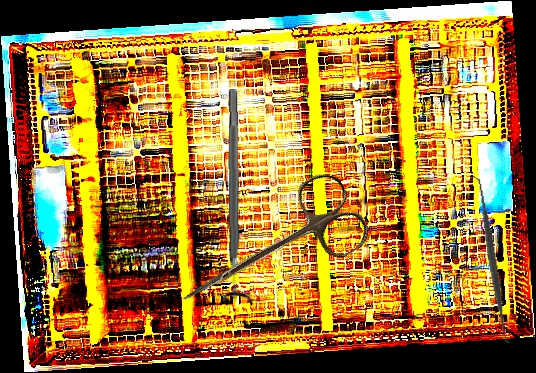Fixation Ring: (217, 88, 254, 307)
Iris Scissors: (164, 165, 375, 340)
Spatula Surgical: (469, 174, 515, 345)
